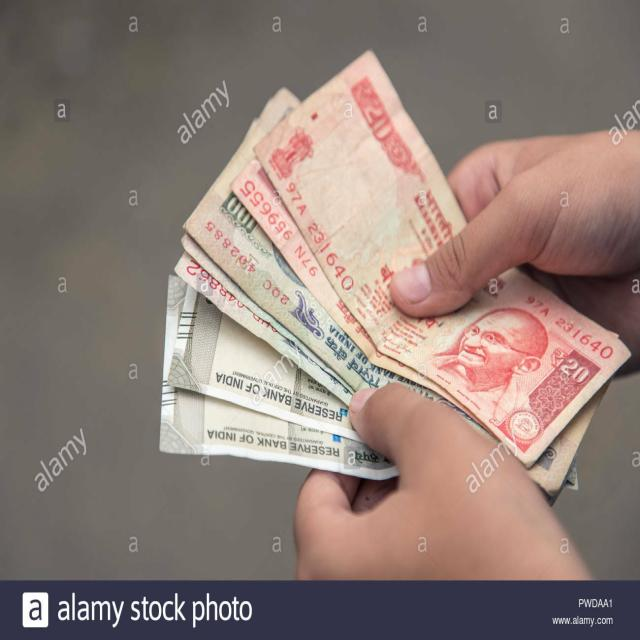20IndianRupees: (266, 48, 604, 468)
